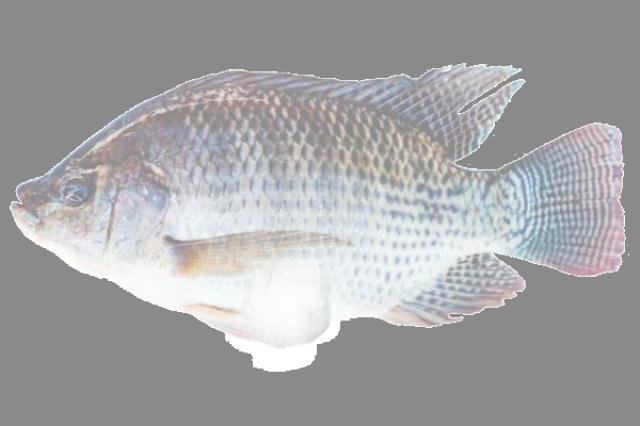Fungal Disease -Saprolegniasis-: (10, 65, 625, 372)
